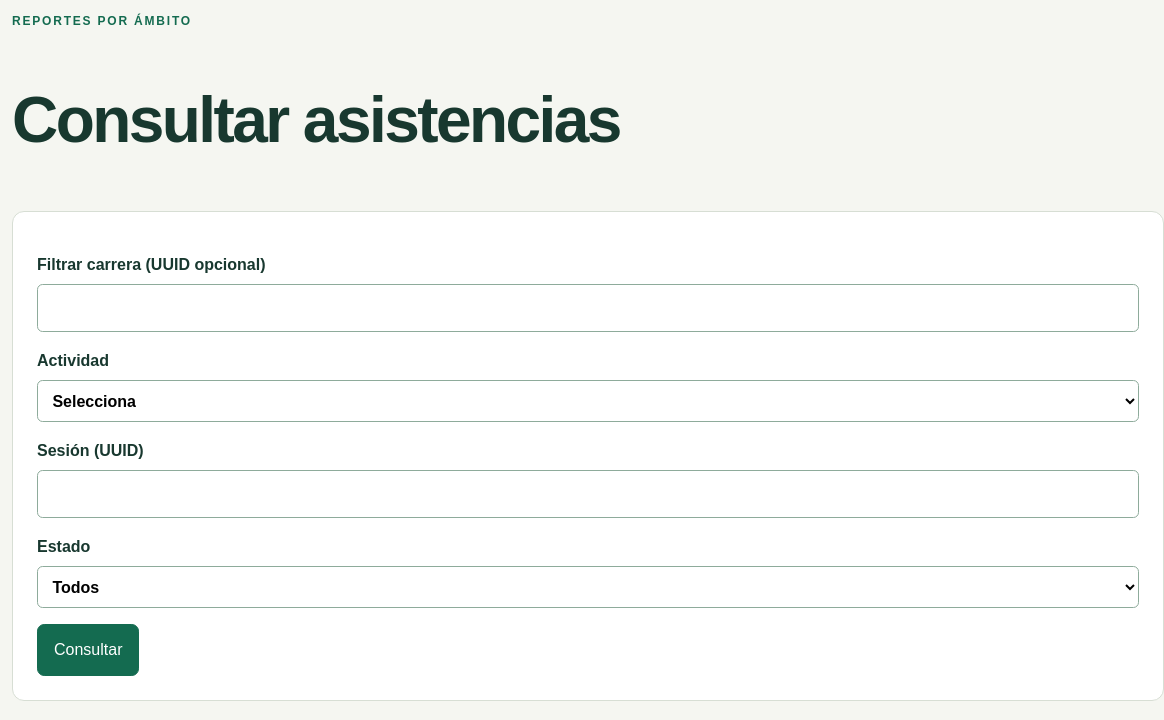
Test: muestra estado y motivo y no ofrece exportación al director
Select "Evento · p1" in the dropdown labelled "Actividad" at [588, 401], box [37,380,1139,422]
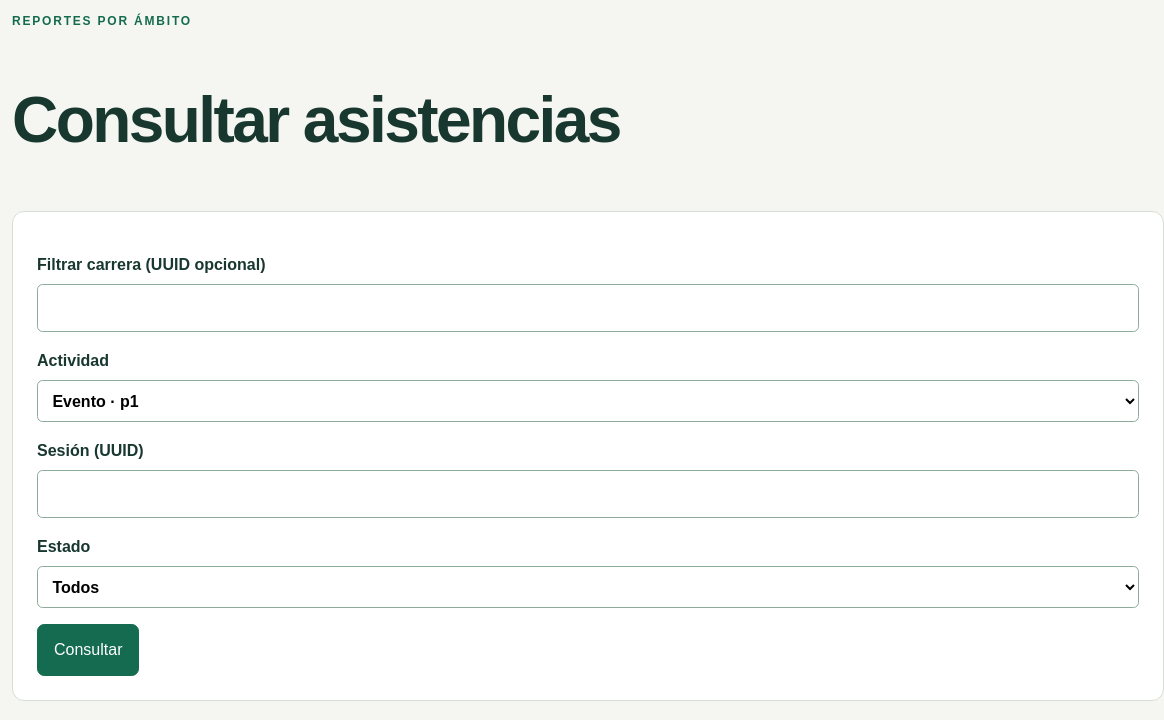
Type "s1" into the field labelled "Sesión" at [588, 494], box [37,470,1139,518]
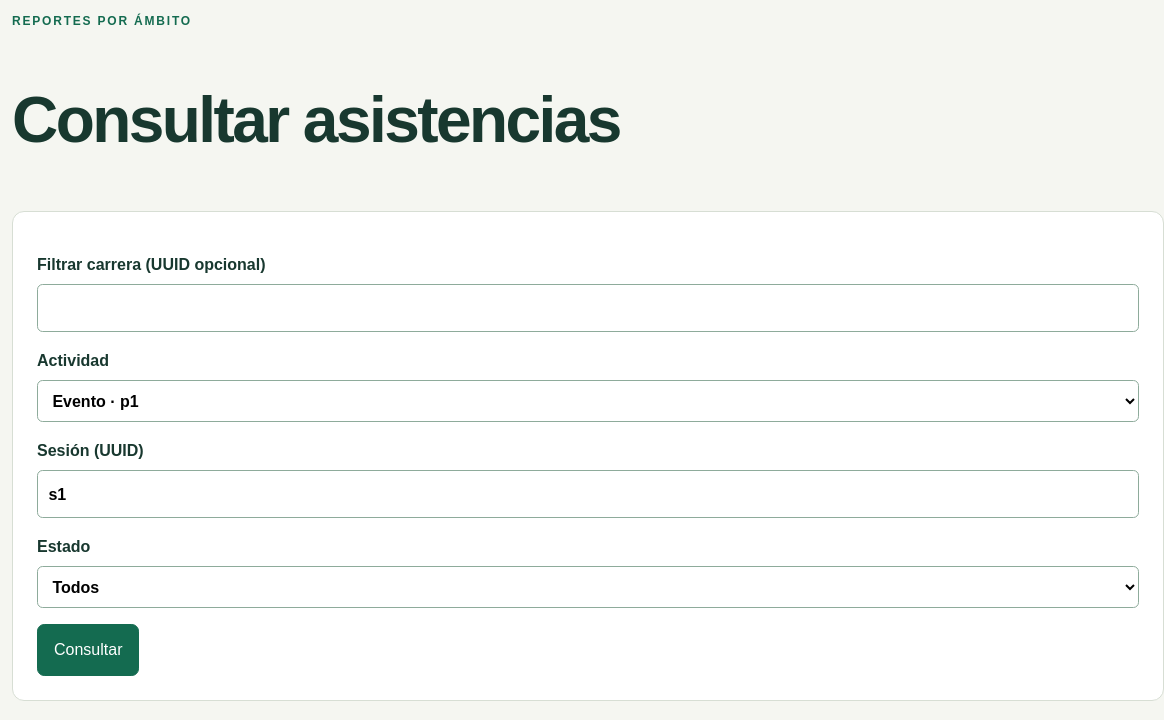
Select "Pendiente de revisión" in the dropdown labelled "Estado" at [588, 587], box [37,566,1139,608]
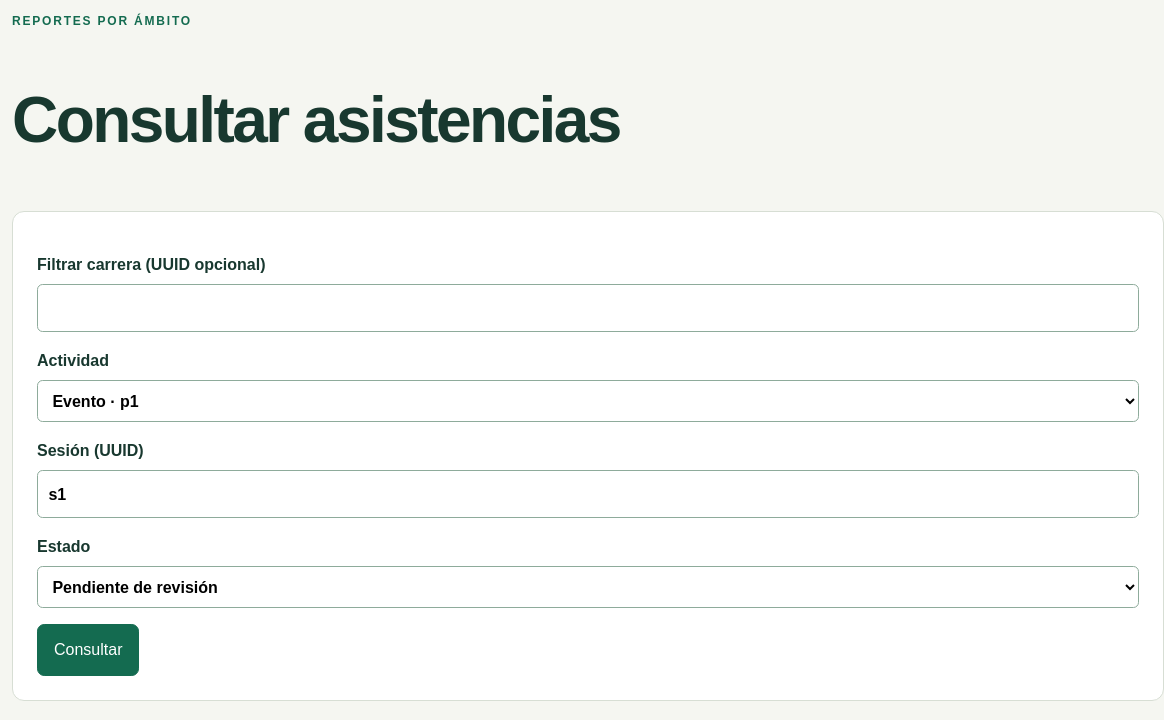
Click the button "Consultar" at [88, 650], box [37,624,140,676]
(page scrolled)
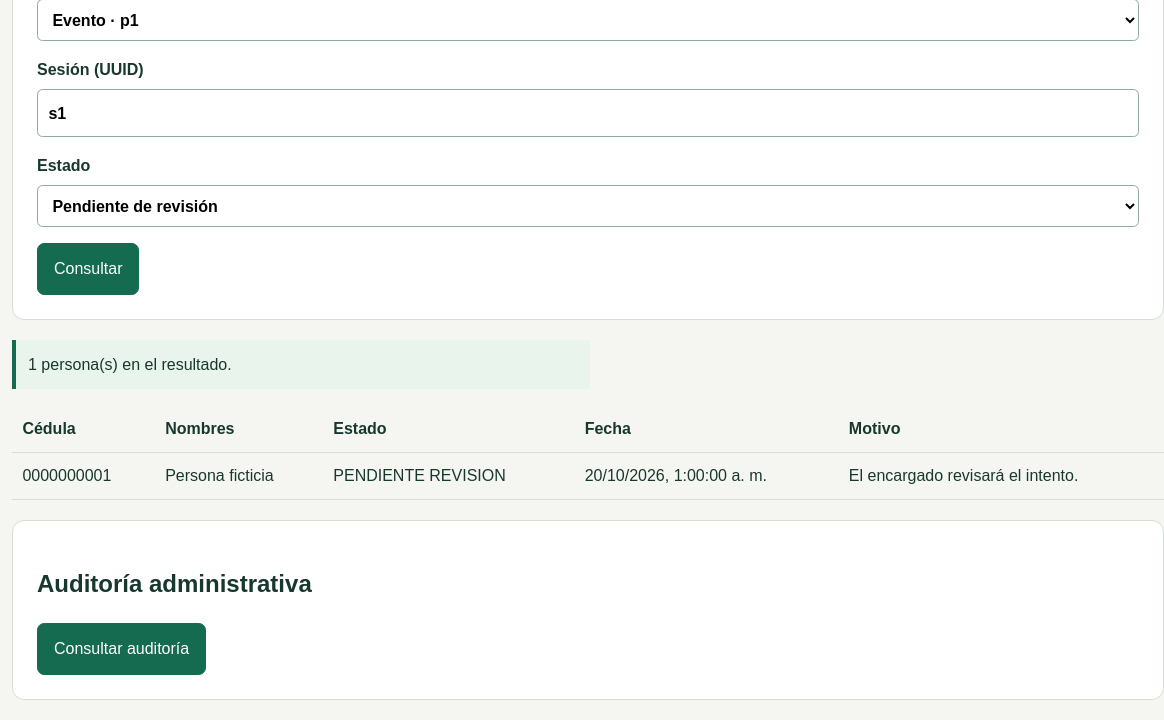
expect the text "El encargado revisará el intento." is shown: met, box [838,452,1163,500]
expect the text "PENDIENTE REVISION" is shown: met, box [323,452,574,500]
